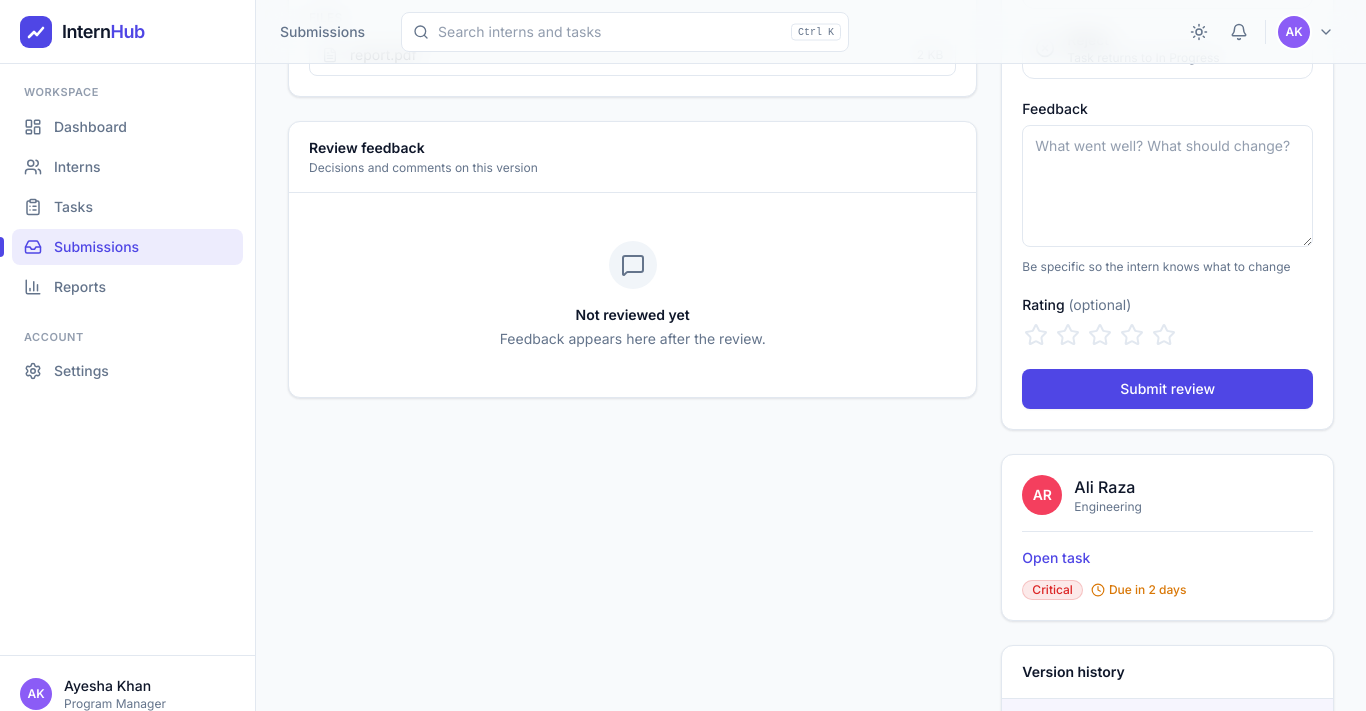
submissions › review: requires a decision and feedback for revisions
(page scrolled)
Expected: the text "report.pdf" is shown, [350, 46, 417, 63]
Click the button "Submit review" at (1168, 389), box [1022, 369, 1313, 409]
(page scrolled)
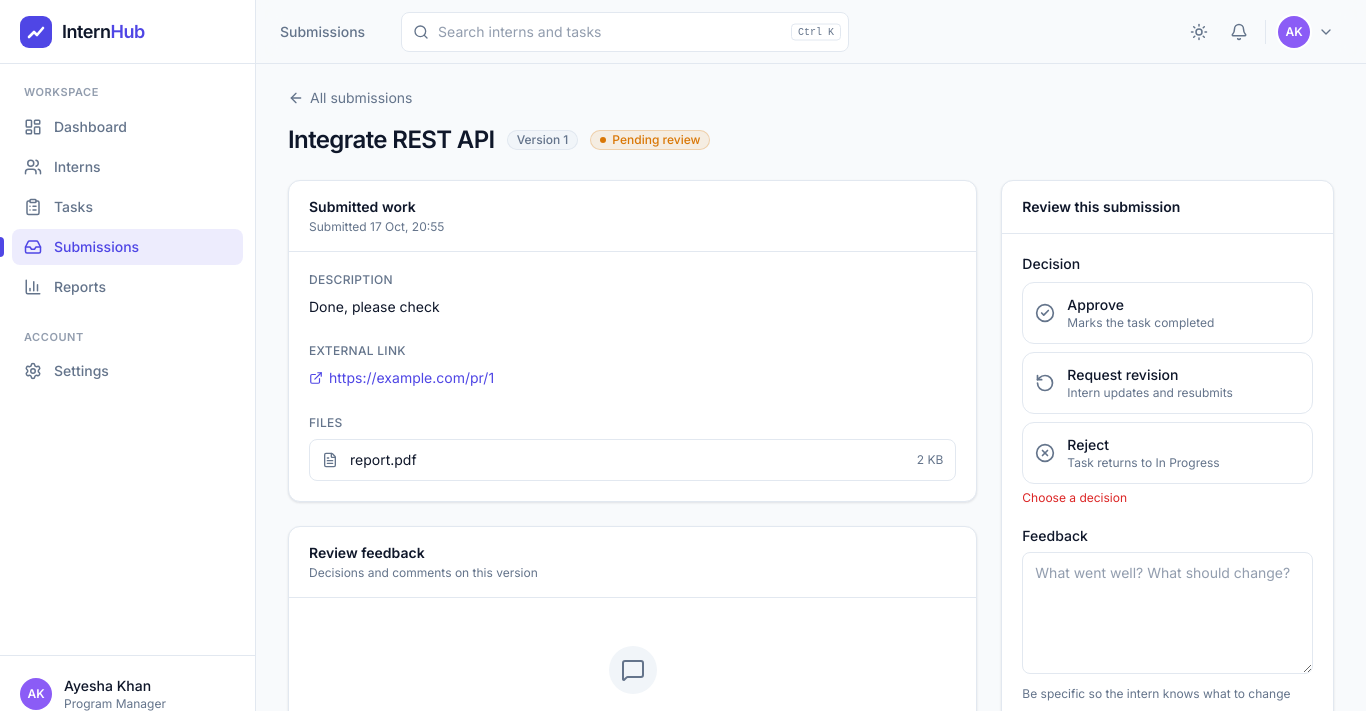
Expected: the text "Choose a decision" is shown, [1022, 490, 1127, 505]
Click the radio button labelled "Request revision Intern updates and resubmits" at (1168, 383), box [1022, 352, 1313, 414]
(page scrolled)
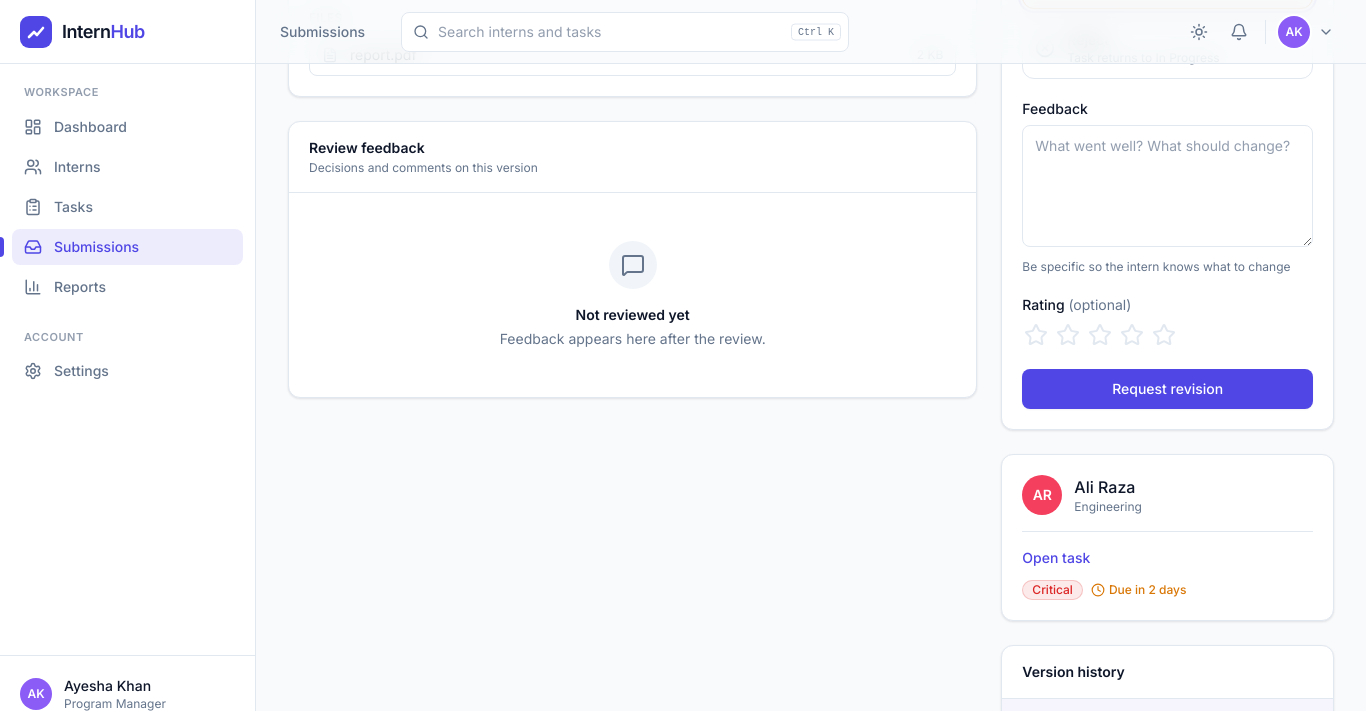
Click the button "Request revision" at (1168, 389), box [1022, 369, 1313, 409]
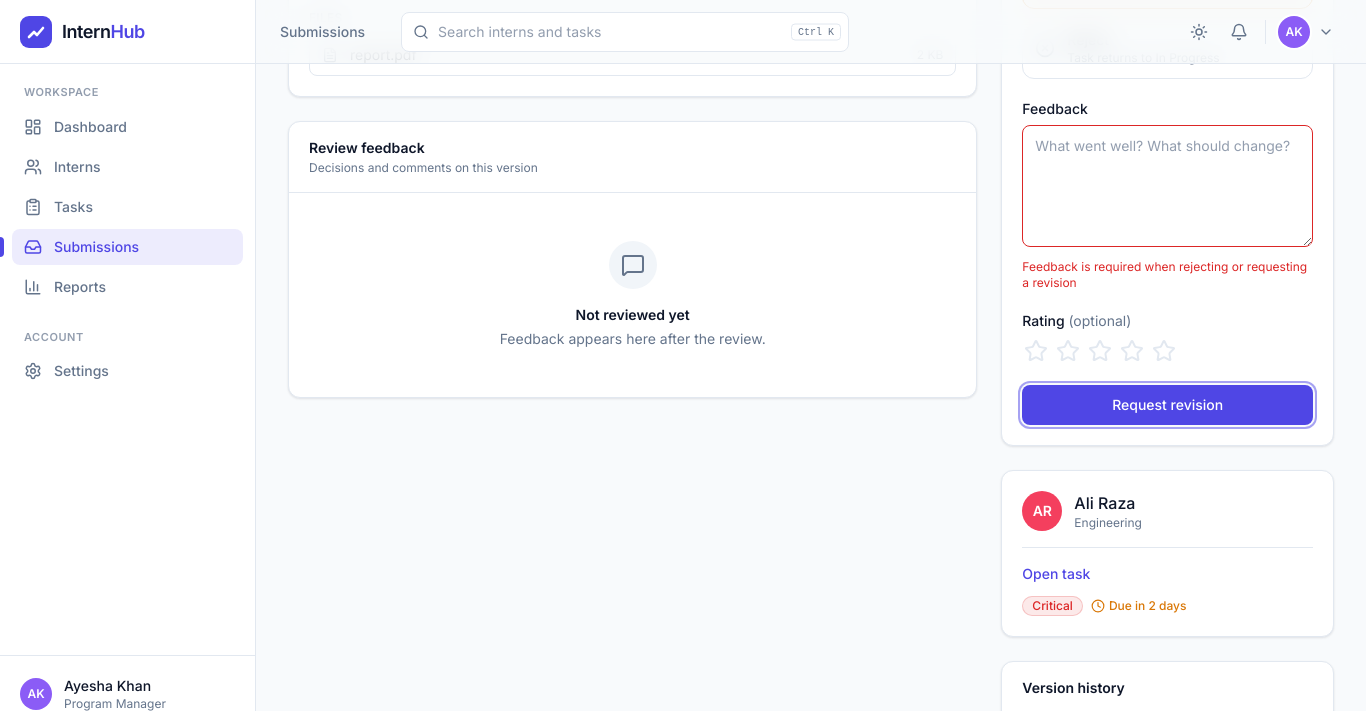
Expected: the text "Feedback is required when rejecting or requesting a revision" is shown, [1022, 259, 1313, 291]
Type "Please add unit tests" into the text box labelled "Feedback" at (1168, 186), box [1022, 125, 1313, 247]
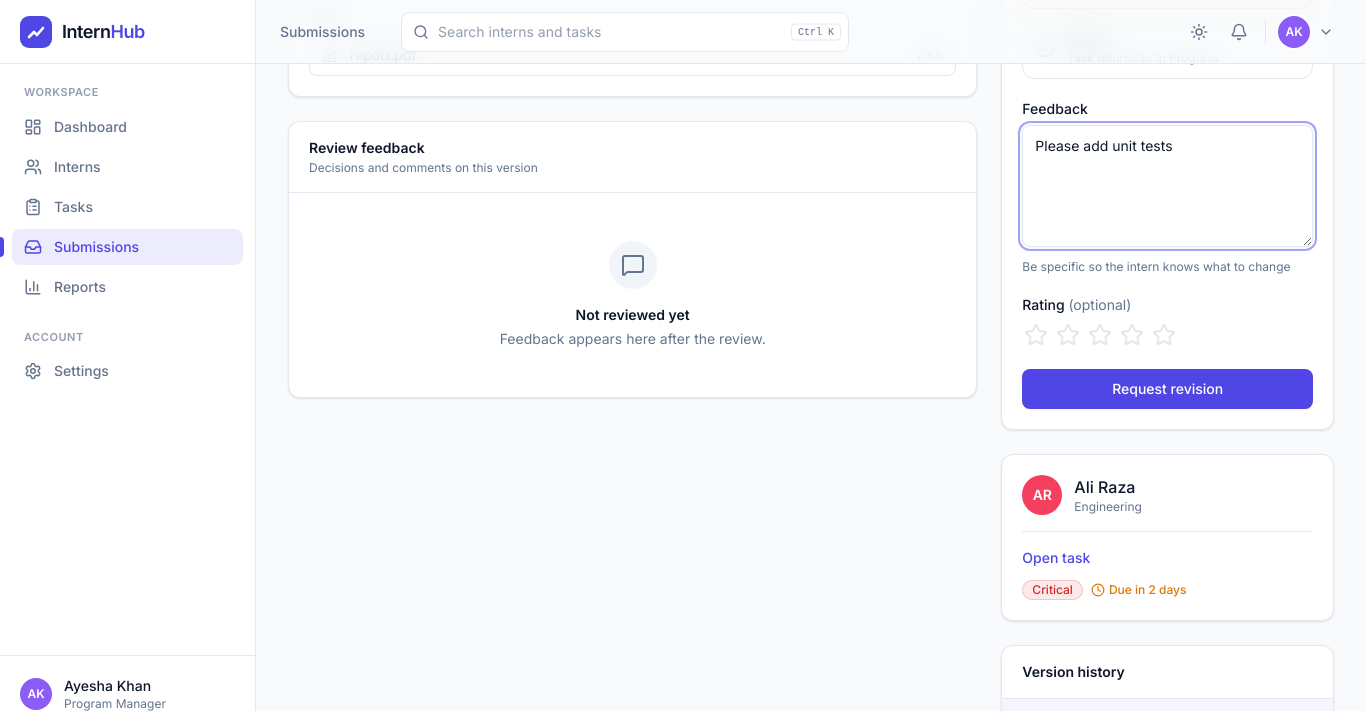
Click the radio button named "3 stars" at (1100, 335), box [1086, 321, 1114, 349]
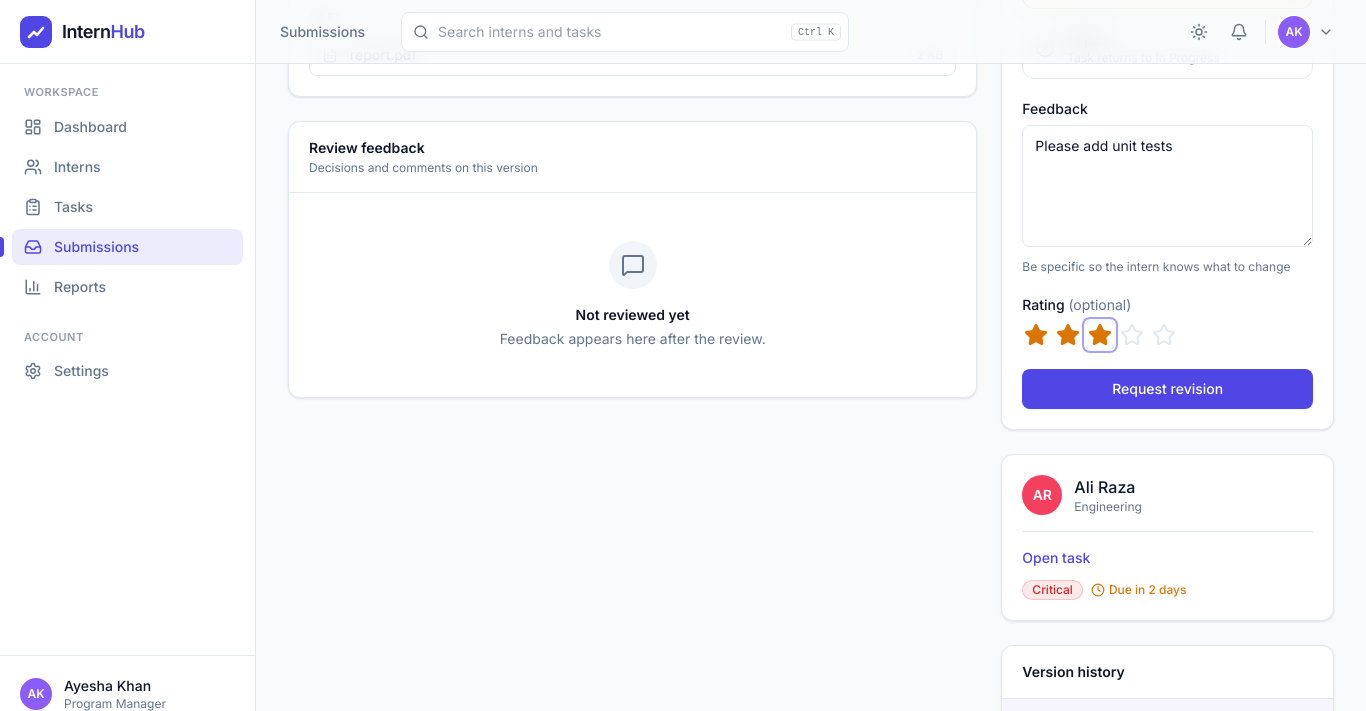
Click the button "Request revision" at (1168, 389), box [1022, 369, 1313, 409]
(page scrolled)
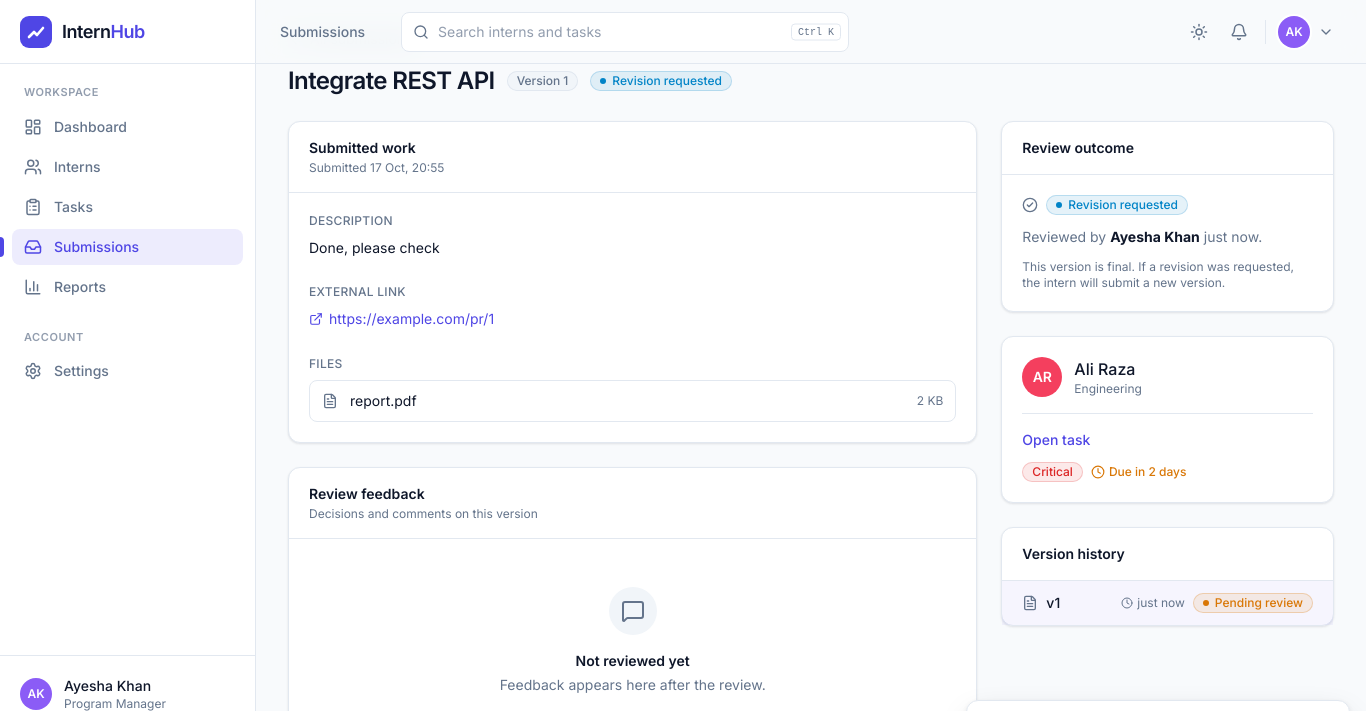
Expected: the heading "Review outcome" is shown, [1022, 138, 1134, 158]
